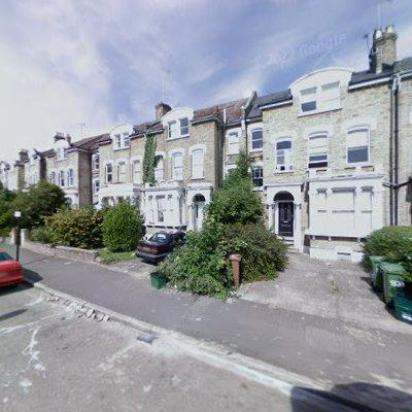stationary-car-offstreet: (134, 228, 187, 260)
stationary-car-onstreet: (0, 248, 24, 295)
